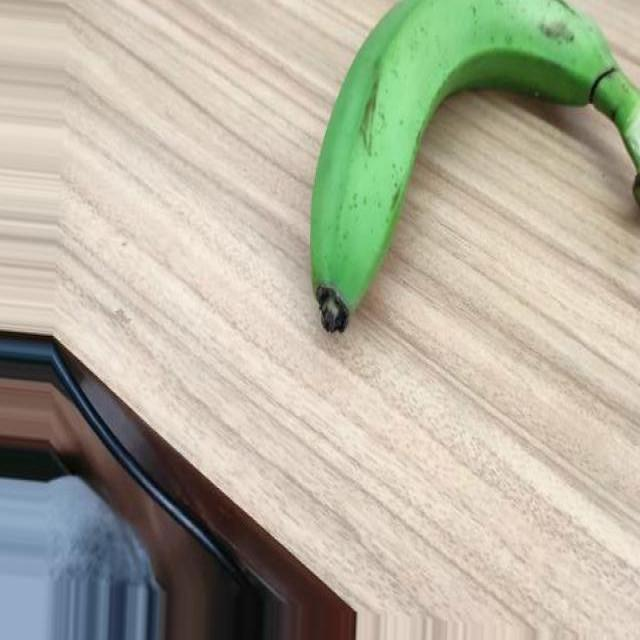Unripe: (310, 0, 640, 334)
